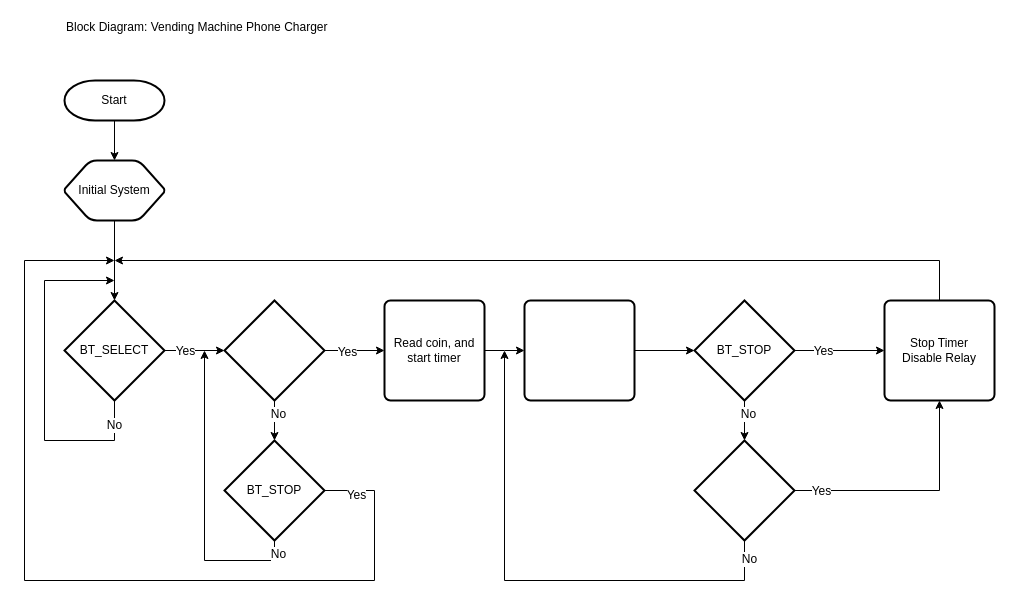
Some shapes in this 1013 by 606 pixel diagram are drawn without their labels. The centre of each missing label's shape, as x and y in pixels:
"BT_START" belongs at [274,350].
"Countdown Timer Enable Relay Display 7 Segment" belongs at [579,350].
"Timeout" belongs at [744,490].
